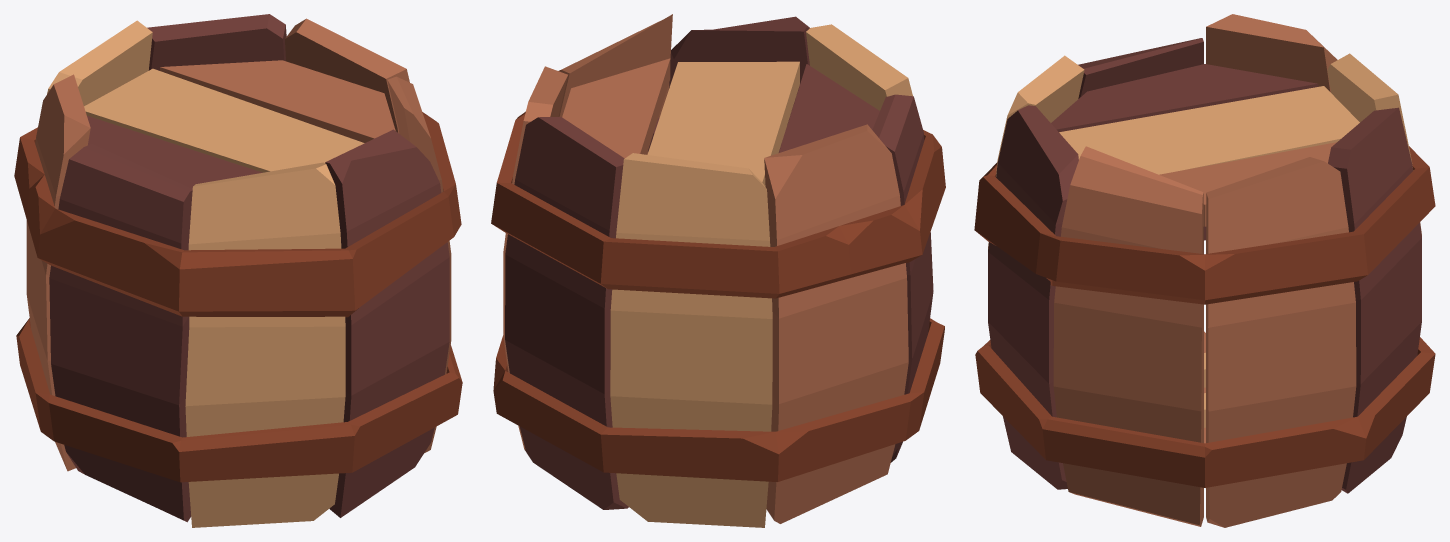
The model's file is Barrel 1_4b.fbx.
3 renders of one model, left to right at view 1: azimuth 30°, elevation 25°; view 2: azimuth 150°, elevation 25°; view 3: azimuth 270°, elevation 25°, orthographic. The views are drawn at different scales.
Parts seen in each view (by area): view 1: Barrel 1_4b.004, Barrel 1_4b.010, Barrel 1_4b.009, Barrel 1_4b.001, Barrel 1_4b.005, Barrel 1_4b.011, Barrel 1_4b.003, Barrel 1_4b.006, Barrel 1_4b.007, Barrel 1_4b, Barrel 1_4b.008; view 2: Barrel 1_4b, Barrel 1_4b.003, Barrel 1_4b.006, Barrel 1_4b.010, Barrel 1_4b.001, Barrel 1_4b.011, Barrel 1_4b.009, Barrel 1_4b.005, Barrel 1_4b.004, Barrel 1_4b.008, Barrel 1_4b.007; view 3: Barrel 1_4b.007, Barrel 1_4b.008, Barrel 1_4b.001, Barrel 1_4b.010, Barrel 1_4b.011, Barrel 1_4b.006, Barrel 1_4b.005, Barrel 1_4b.003, Barrel 1_4b.009, Barrel 1_4b, Barrel 1_4b.004.
Part boxes in pixels (box(x1,y1,x2,y2)): Barrel 1_4b.004: box(185, 162, 345, 527); Barrel 1_4b.010: box(14, 112, 461, 317); Barrel 1_4b.009: box(49, 144, 192, 522); Barrel 1_4b.001: box(84, 60, 395, 189); Barrel 1_4b.005: box(325, 129, 449, 517); Barrel 1_4b.011: box(16, 318, 462, 482); Barrel 1_4b.003: box(26, 74, 90, 471); Barrel 1_4b.006: box(147, 14, 286, 70); Barrel 1_4b.007: box(285, 18, 409, 133); Barrel 1_4b: box(47, 20, 152, 106); Barrel 1_4b.008: box(387, 76, 451, 452); Barrel 1_4b: box(610, 153, 772, 527); Barrel 1_4b.003: box(764, 124, 908, 523); Barrel 1_4b.006: box(505, 117, 628, 509); Barrel 1_4b.010: box(491, 111, 945, 298); Barrel 1_4b.001: box(562, 58, 879, 186); Barrel 1_4b.011: box(493, 318, 944, 481); Barrel 1_4b.009: box(872, 94, 933, 462); Barrel 1_4b.005: box(669, 16, 809, 124); Barrel 1_4b.004: box(806, 24, 912, 110); Barrel 1_4b.008: box(558, 14, 672, 154); Barrel 1_4b.007: box(503, 66, 567, 451); Barrel 1_4b.007: box(1206, 157, 1356, 527); Barrel 1_4b.008: box(1053, 146, 1203, 526); Barrel 1_4b.001: box(1051, 64, 1359, 240); Barrel 1_4b.010: box(974, 146, 1435, 304); Barrel 1_4b.011: box(975, 337, 1435, 487); Barrel 1_4b.006: box(1328, 107, 1421, 493); Barrel 1_4b.005: box(988, 105, 1078, 489); Barrel 1_4b.003: box(1206, 14, 1337, 247); Barrel 1_4b.009: box(1078, 38, 1203, 253); Barrel 1_4b: box(1327, 53, 1421, 234); Barrel 1_4b.004: box(988, 55, 1084, 248).
Bounding box in the file's own units: 94.7 × 81.24 × 94.7.
